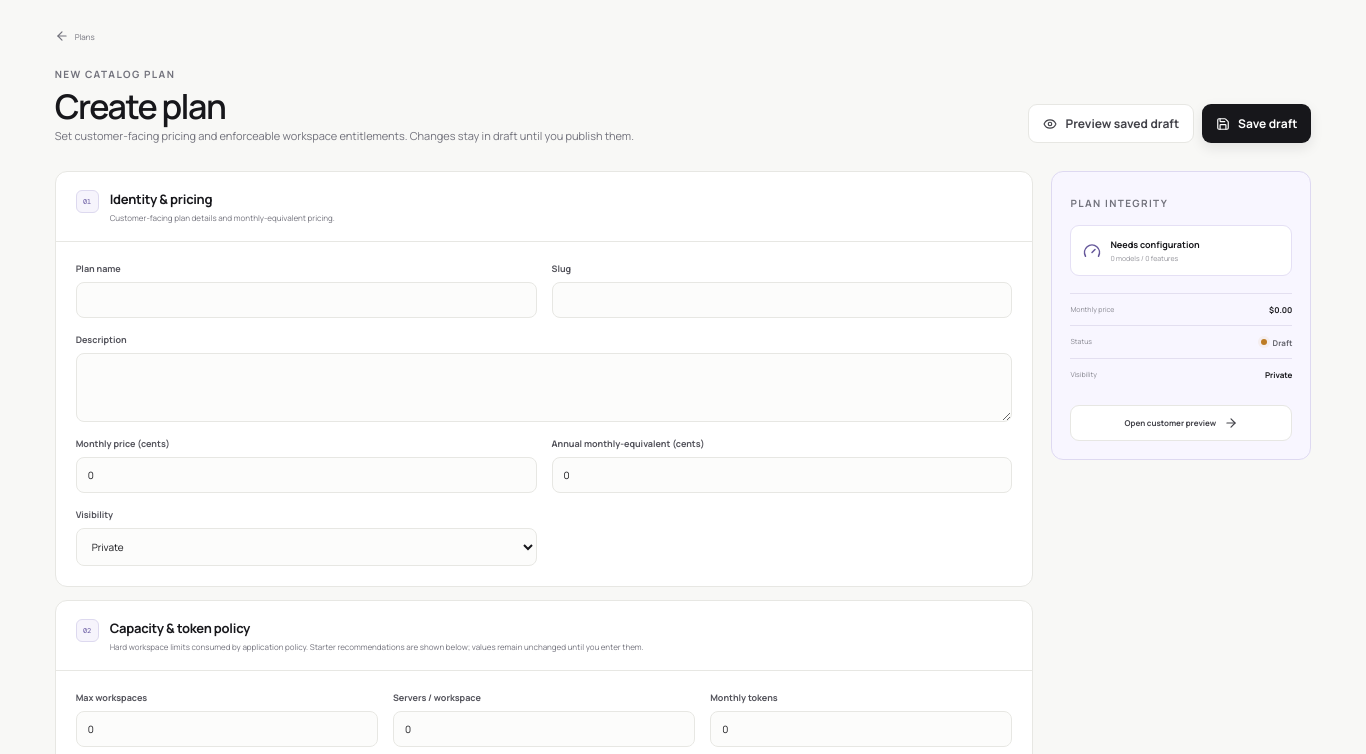
Scenario: keeps plan editor mounted with input after failed save
Type "Unsaved Plan" into the field labelled "Plan name". click: (306, 300)
box: [76, 282, 536, 318]
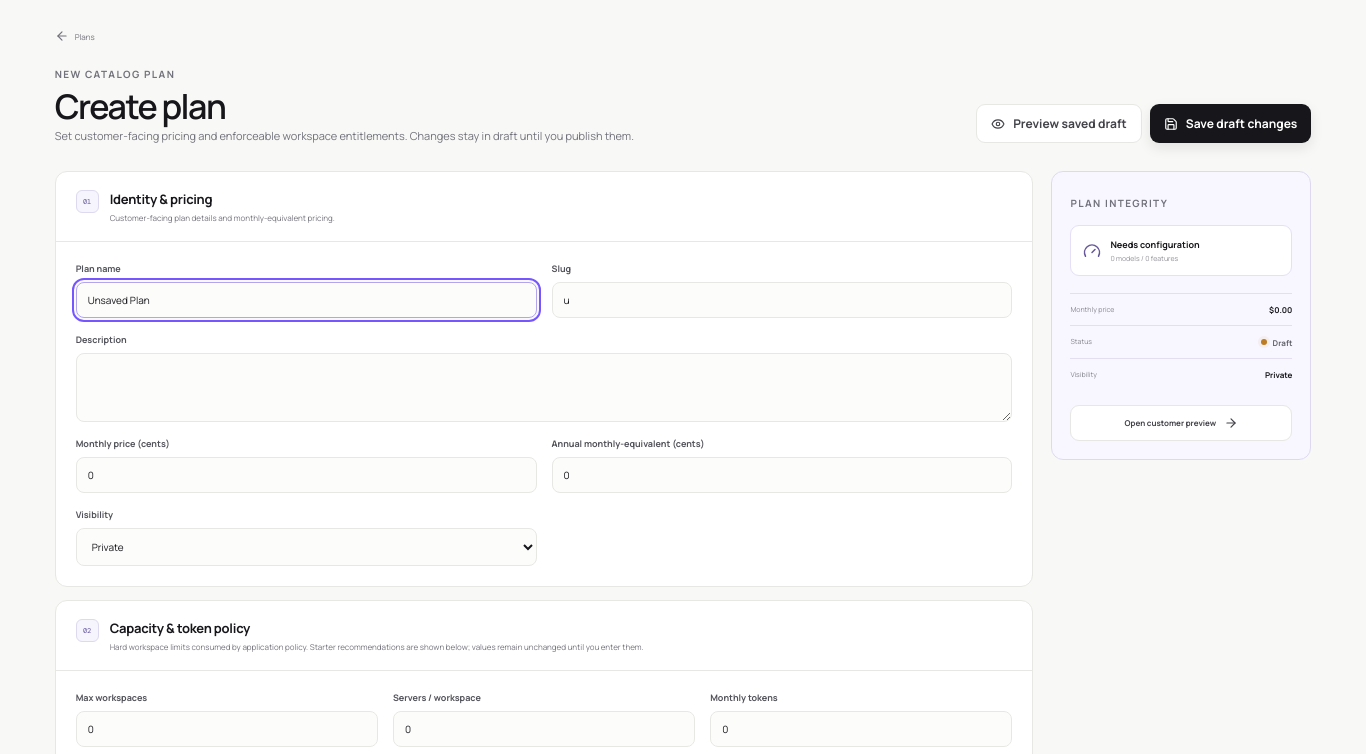
Click the button "Save draft changes". click: click(1231, 124)
box: [1150, 104, 1311, 143]
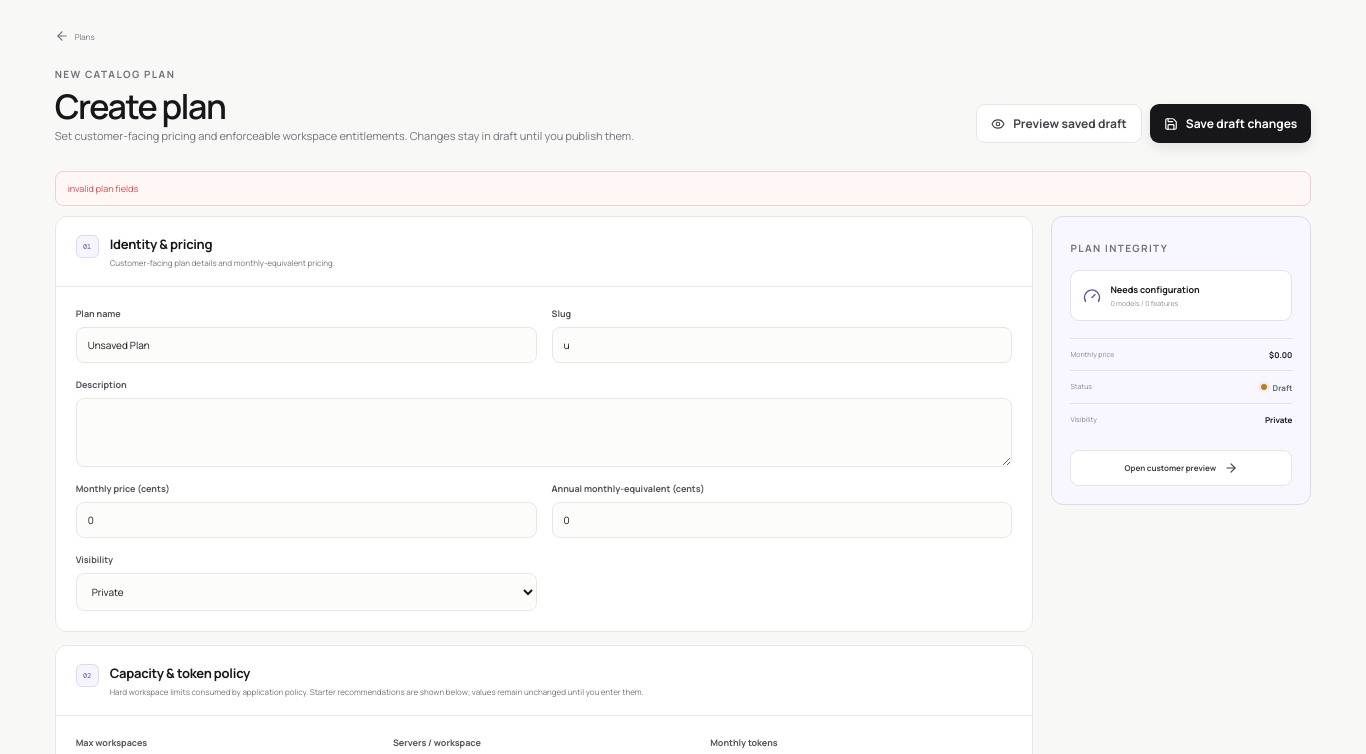
Result: the message reads "invalid plan fields" at [68, 182, 138, 195]
